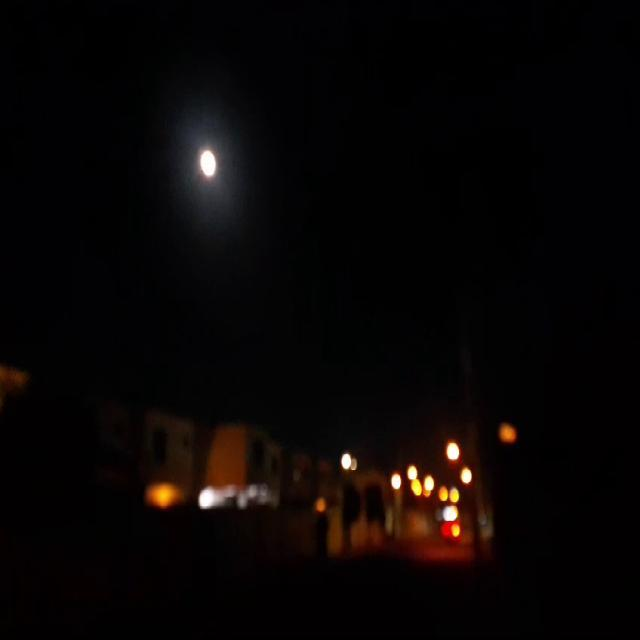moon: (197, 149, 217, 183)
